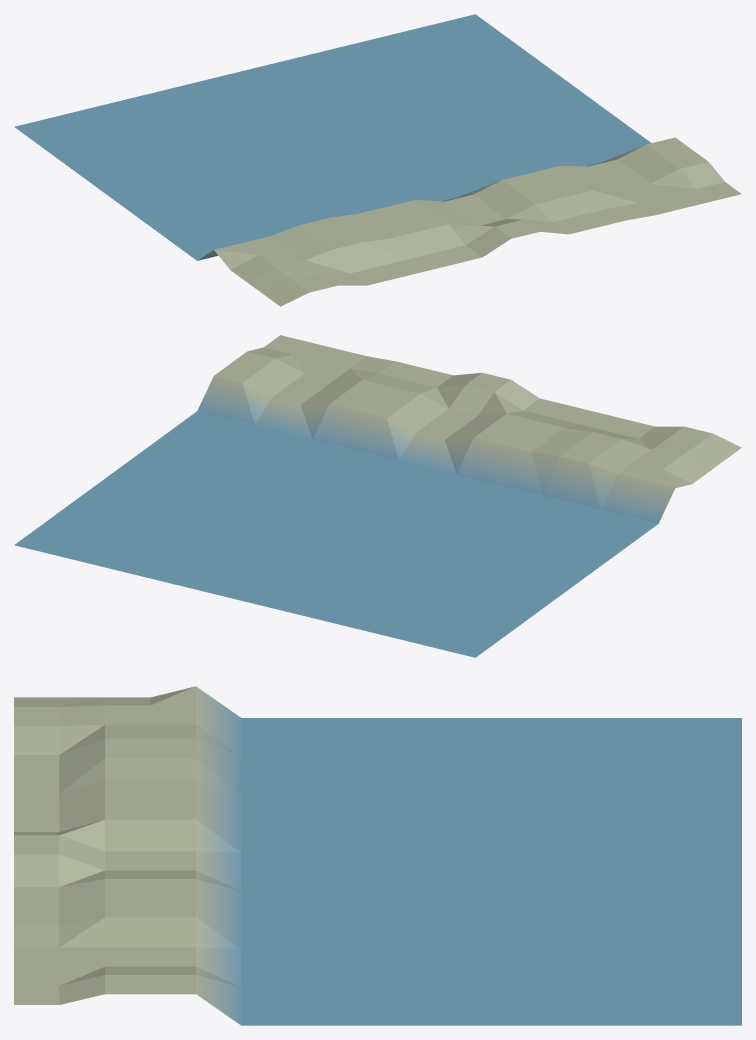
The picture shows the model from 3 angles, top to bottom: view 1: azimuth 30°, elevation 25°; view 2: azimuth 150°, elevation 25°; view 3: azimuth 270°, elevation 25°; orthographic projection. The views are drawn at different scales.
Bounding box in the file's own units: 32 × 1.79 × 32.
